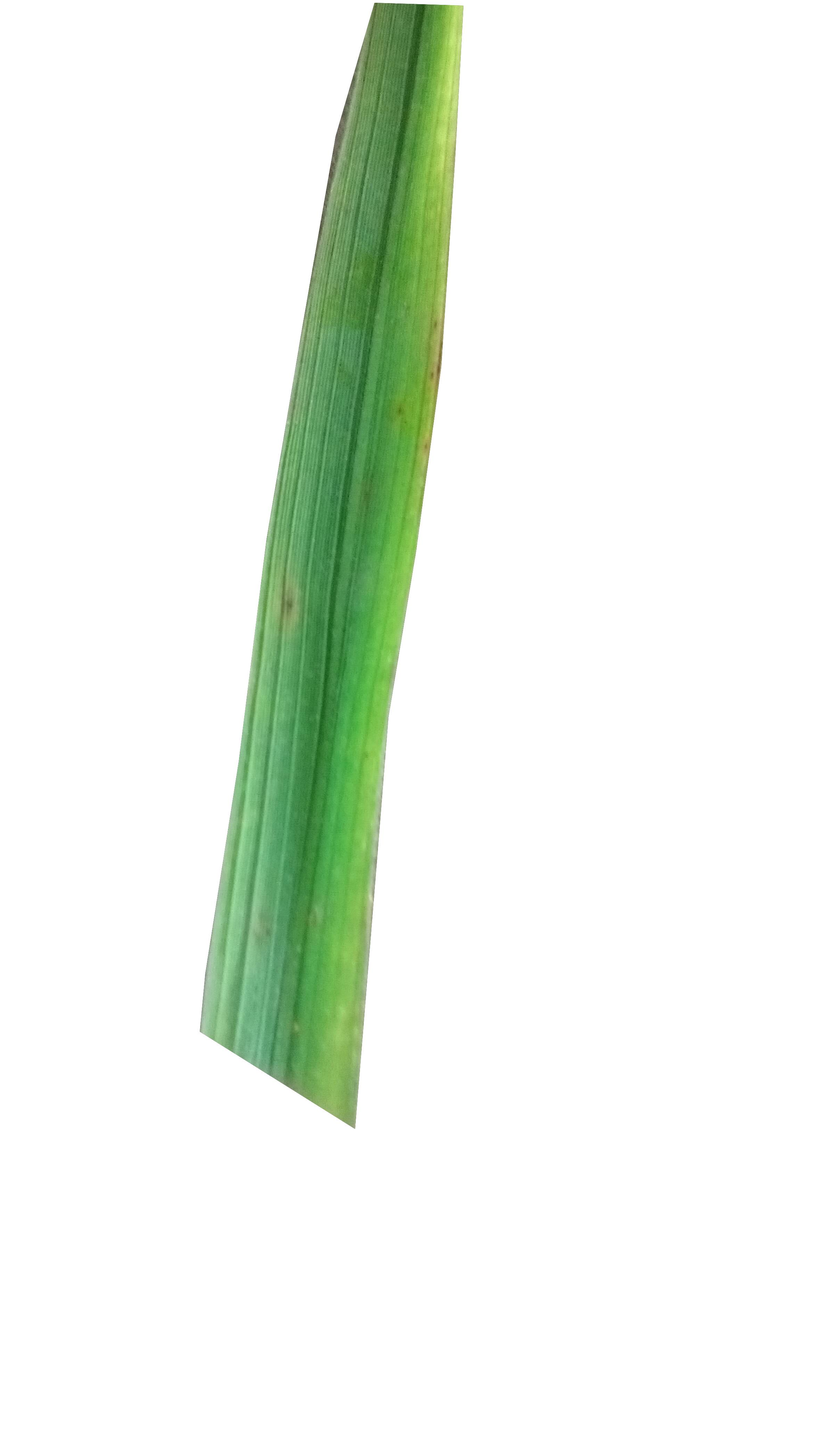Tungro: (264, 7, 452, 1116)
